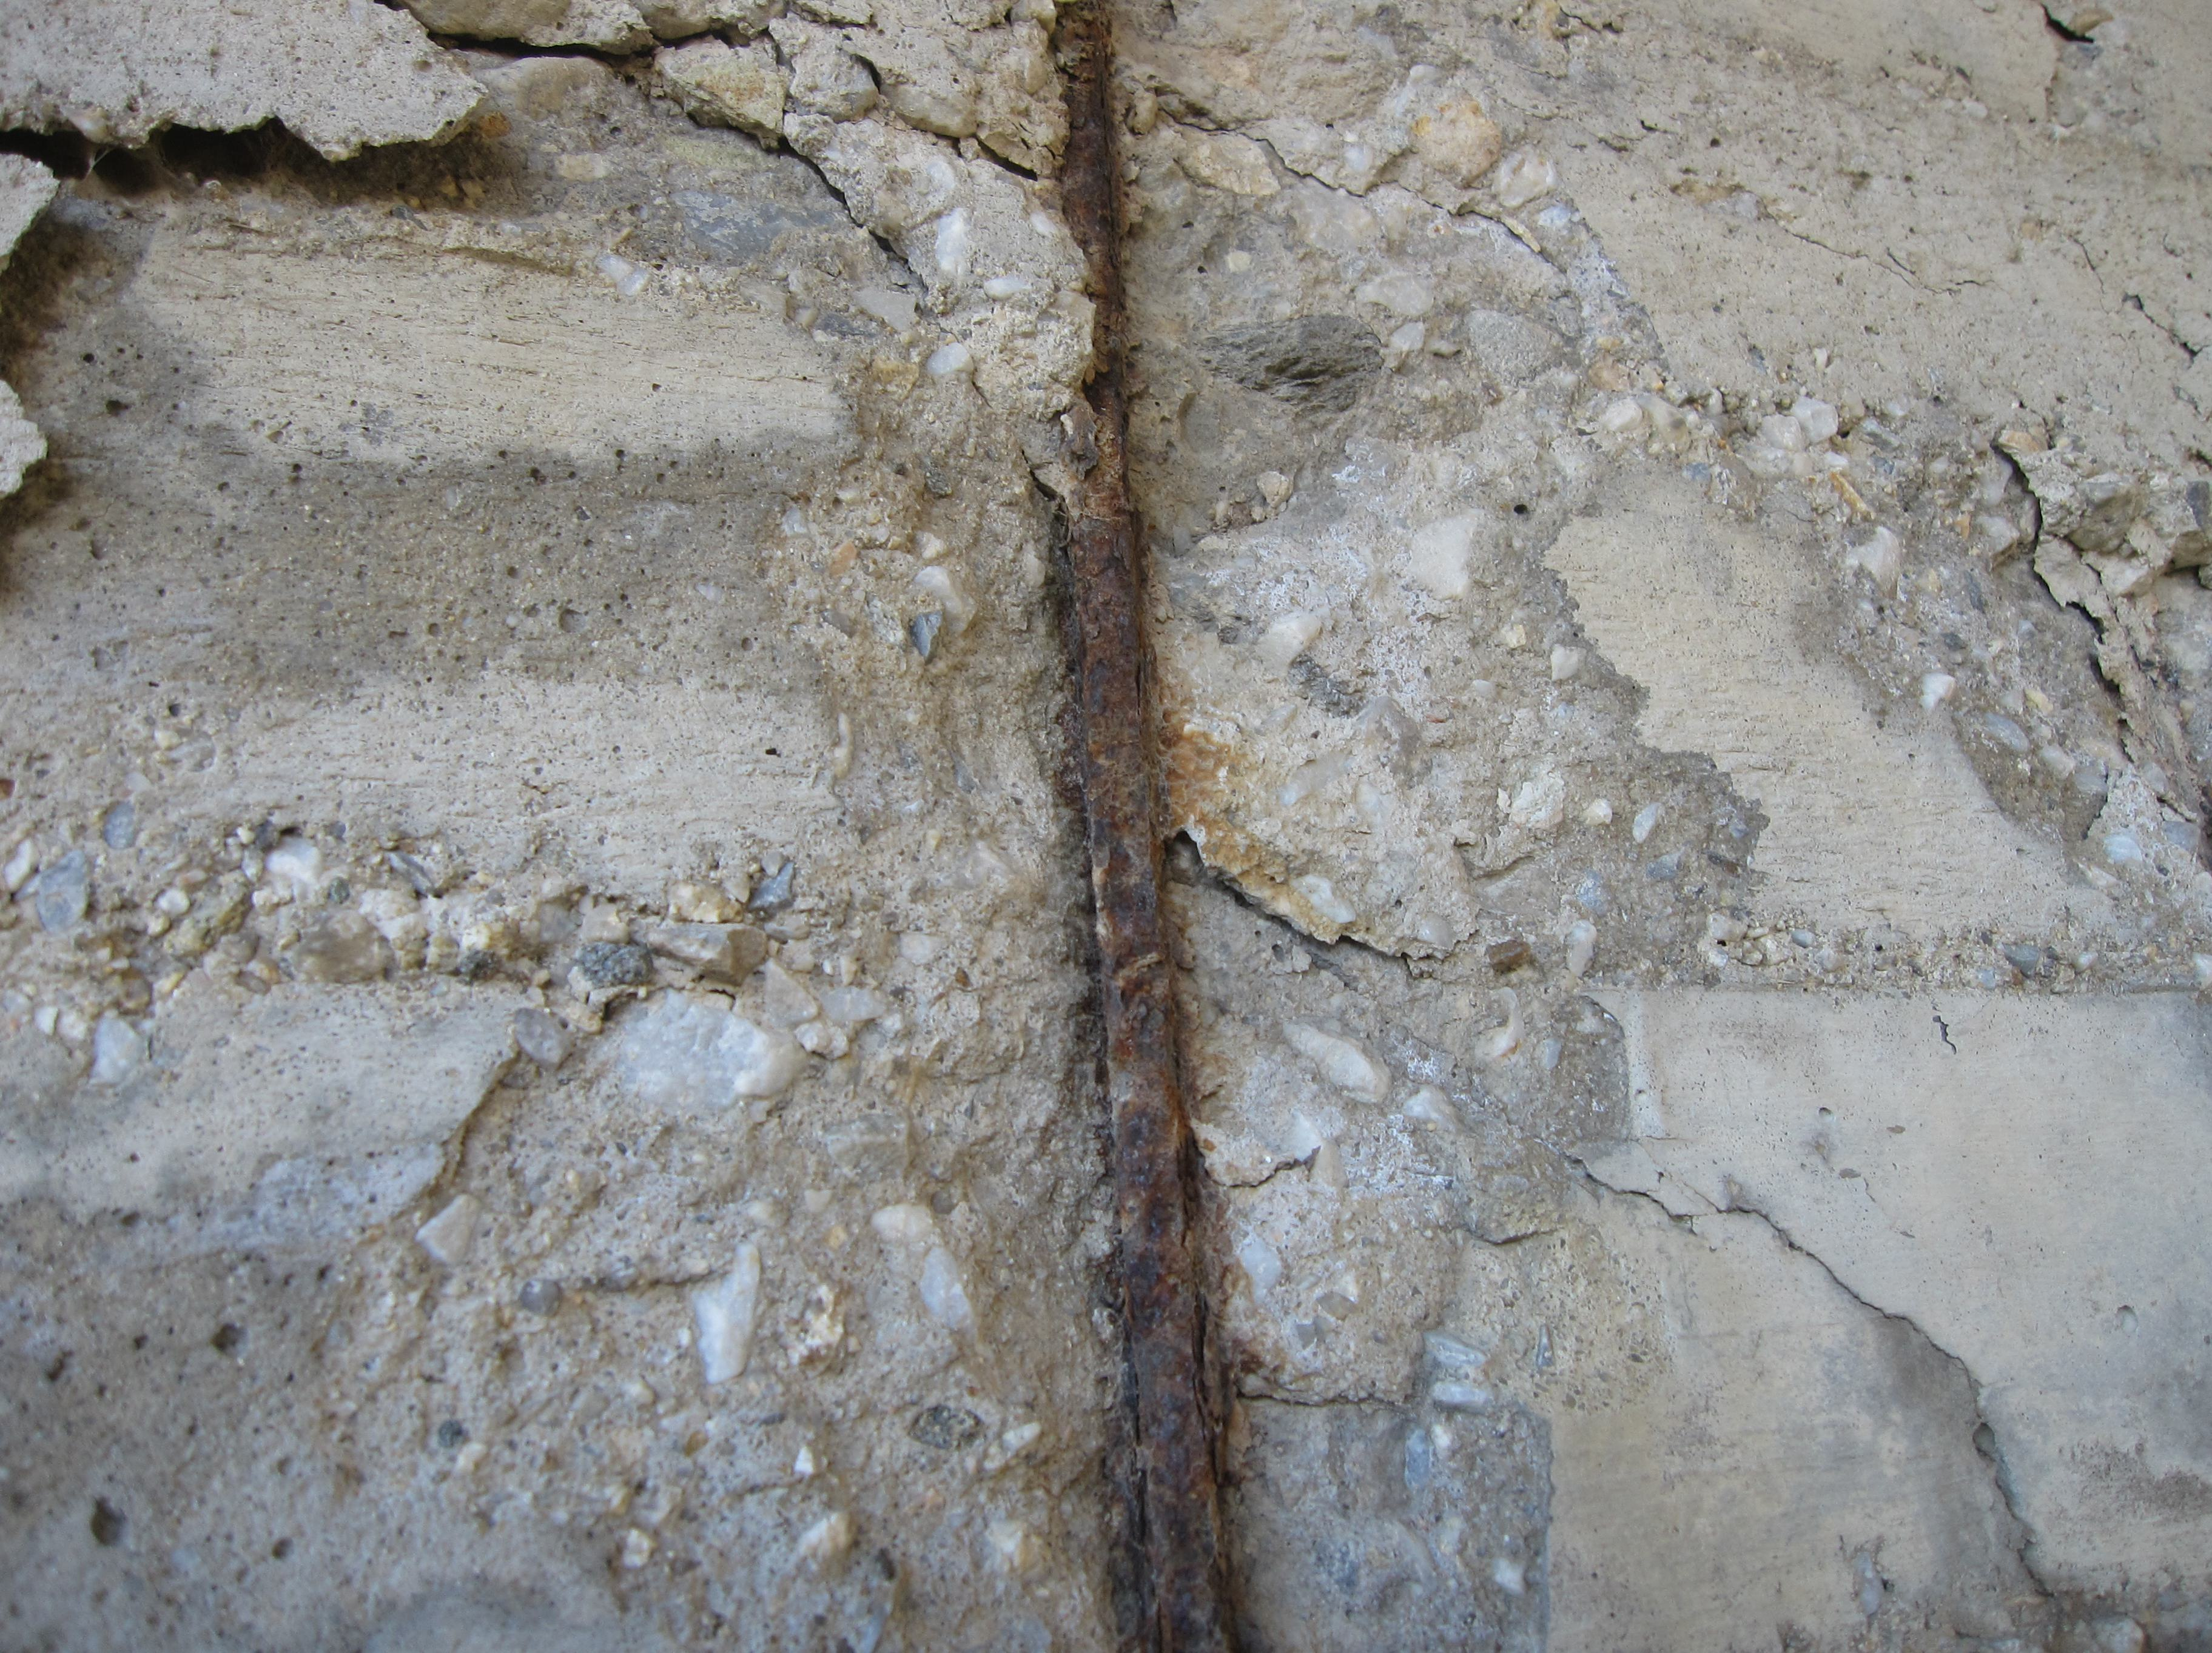Crack: (1557, 1144, 2059, 1604), (629, 78, 1063, 510), (1156, 106, 1554, 264), (1998, 431, 2132, 853), (1163, 827, 1450, 965), (425, 0, 879, 76), (1722, 179, 1997, 295)
Exposed reinforcement: (1050, 0, 1241, 1653)
Spalling: (0, 0, 1768, 1653), (1768, 382, 2212, 879)
